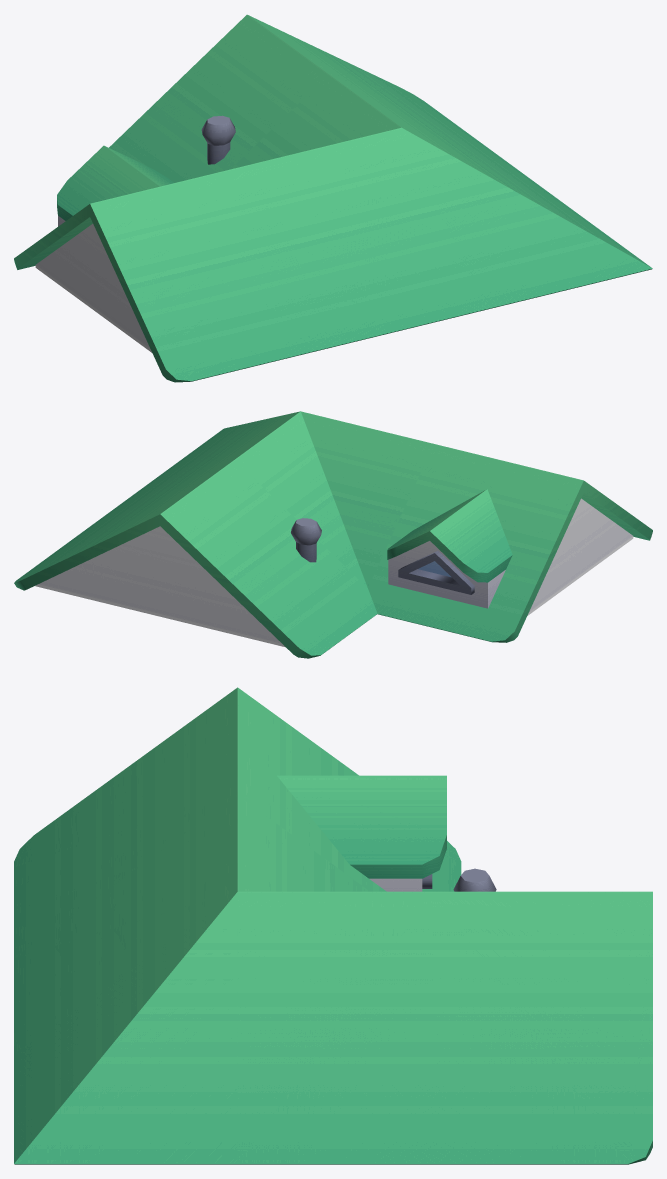
Rendered from suburban-f.glb.
3 views of the same model, one above another, from view 1: azimuth 30°, elevation 25°; view 2: azimuth 150°, elevation 25°; view 3: azimuth 270°, elevation 25° (orthographic). The views are drawn at different scales.
Visible parts, largest first — view 1: building-type-f; view 2: building-type-f; view 3: building-type-f.
Part boxes in pixels (x1,y1,x2,y2): building-type-f: [14, 14, 652, 382]; building-type-f: [14, 411, 652, 658]; building-type-f: [14, 687, 652, 1164].
Bounding box in the file's own units: 11.91 × 2.89 × 10.23.
Materials: 1 (1 with a texture image).
